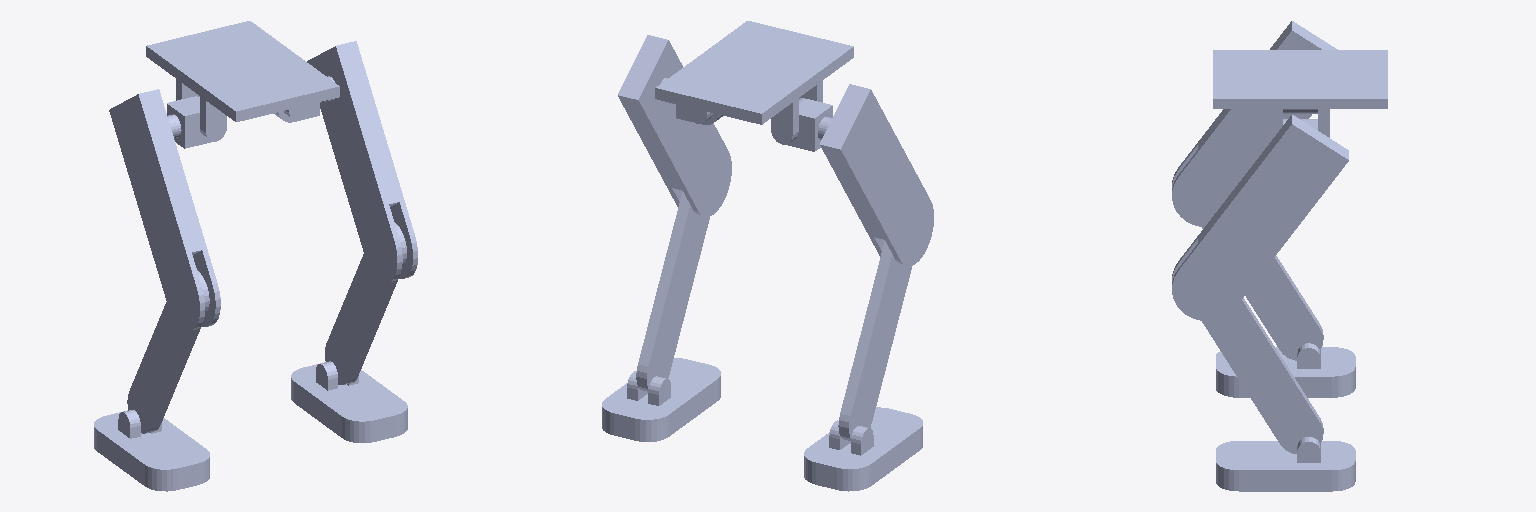
robot.urdf — Severus_1:
<?xml version="1.0" encoding="utf-8"?>
<!-- This URDF was automatically created by SolidWorks to URDF Exporter! Originally created by [author] ([email redacted]) 
     Commit Version: 1.5.1-0-g916b5db  Build Version: 1.5.7152.31018
     For more information, please see http://wiki.ros.org/sw_urdf_exporter -->
<robot
  name="Severus_1">
  <link
    name="base_link">
    <inertial>
      <origin
        xyz="-1.6476E-17 0.16214 1.7188E-15"
        rpy="0 0 0" />
      <mass
        value="0.024892" />
      <inertia
        ixx="1.0353E-05"
        ixy="-1.0923E-21"
        ixz="-9.3058E-22"
        iyy="1.5627E-05"
        iyz="3.3417E-22"
        izz="7.5413E-06" />
    </inertial>
    <visual>
      <origin
        xyz="0 0 0"
        rpy="0 0 0" />
      <geometry>
        <mesh
          filename="package://Severus_1/meshes/base_link.STL" />
      </geometry>
      <material
        name="">
        <color
          rgba="0.79216 0.81961 0.93333 1" />
      </material>
    </visual>
    <collision>
      <origin
        xyz="0 0 0"
        rpy="0 0 0" />
      <geometry>
        <mesh
          filename="package://Severus_1/meshes/base_link.STL" />
      </geometry>
    </collision>
  </link>
  <link
    name="Link_11">
    <inertial>
      <origin
        xyz="-0.005742 0 -1.7225E-15"
        rpy="0 0 0" />
      <mass
        value="0.0033525" />
      <inertia
        ixx="1.2441E-07"
        ixy="-9.5724E-24"
        ixz="-2.4511E-24"
        iyy="1.9435E-07"
        iyz="2.6296E-25"
        izz="2.0287E-07" />
    </inertial>
    <visual>
      <origin
        xyz="0 0 0"
        rpy="0 0 0" />
      <geometry>
        <mesh
          filename="package://Severus_1/meshes/Link_11.STL" />
      </geometry>
      <material
        name="">
        <color
          rgba="0.79216 0.81961 0.93333 1" />
      </material>
    </visual>
    <collision>
      <origin
        xyz="0 0 0"
        rpy="0 0 0" />
      <geometry>
        <mesh
          filename="package://Severus_1/meshes/Link_11.STL" />
      </geometry>
    </collision>
  </link>
  <joint
    name="Joint_11"
    type="continuous">
    <origin
      xyz="-0.02 0 0.14812"
      rpy="-1.5708 0 0" />
    <parent
      link="base_link" />
    <child
      link="Link_11" />
    <axis
      xyz="0 0 1" />
  </joint>
  <link
    name="Link_12">
    <inertial>
      <origin
        xyz="-0.0098841 -0.027374 5.9674E-16"
        rpy="0 0 0" />
      <mass
        value="0.02541" />
      <inertia
        ixx="1.8947E-05"
        ixy="-8.0624E-08"
        ixz="-1.522E-22"
        iyy="2.1018E-06"
        iyz="-9.2115E-21"
        izz="1.7357E-05" />
    </inertial>
    <visual>
      <origin
        xyz="0 0 0"
        rpy="0 0 0" />
      <geometry>
        <mesh
          filename="package://Severus_1/meshes/Link_12.STL" />
      </geometry>
      <material
        name="">
        <color
          rgba="0.79216 0.81961 0.93333 1" />
      </material>
    </visual>
    <collision>
      <origin
        xyz="0 0 0"
        rpy="0 0 0" />
      <geometry>
        <mesh
          filename="package://Severus_1/meshes/Link_12.STL" />
      </geometry>
    </collision>
  </link>
  <joint
    name="Joint_12"
    type="continuous">
    <origin
      xyz="-0.0175 0 0"
      rpy="2.5307 0 0" />
    <parent
      link="Link_11" />
    <child
      link="Link_12" />
    <axis
      xyz="1 0 0" />
  </joint>
  <link
    name="Link_13">
    <inertial>
      <origin
        xyz="-0.005 -0.040482 3.4694E-18"
        rpy="0 0 0" />
      <mass
        value="0.009669" />
      <inertia
        ixx="7.878E-06"
        ixy="1.6532E-21"
        ixz="-3.4437E-23"
        iyy="3.2746E-07"
        iyz="8.9997E-22"
        izz="7.5933E-06" />
    </inertial>
    <visual>
      <origin
        xyz="0 0 0"
        rpy="0 0 0" />
      <geometry>
        <mesh
          filename="package://Severus_1/meshes/Link_13.STL" />
      </geometry>
      <material
        name="">
        <color
          rgba="0.79216 0.81961 0.93333 1" />
      </material>
    </visual>
    <collision>
      <origin
        xyz="0 0 0"
        rpy="0 0 0" />
      <geometry>
        <mesh
          filename="package://Severus_1/meshes/Link_13.STL" />
      </geometry>
    </collision>
  </link>
  <joint
    name="Joint_13"
    type="continuous">
    <origin
      xyz="-0.005 -0.07 0"
      rpy="1.1345 0 0" />
    <parent
      link="Link_12" />
    <child
      link="Link_13" />
    <axis
      xyz="1 0 0" />
  </joint>
  <link
    name="Link_14">
    <inertial>
      <origin
        xyz="-0.00500000000000002 -0.00952810322272496 0.00950499909017666"
        rpy="0 0 0" />
      <mass
        value="0.0180342917352885" />
      <inertia
        ixx="5.05303717496673E-06"
        ixy="-2.10409767457236E-23"
        ixz="2.69571912809291E-22"
        iyy="6.05790585277192E-06"
        iyz="8.08906233059054E-08"
        izz="1.4576451211458E-06" />
    </inertial>
    <visual>
      <origin
        xyz="0 0 0"
        rpy="0 0 0" />
      <geometry>
        <mesh
          filename="package://Severus_1/meshes/Link_14.STL" />
      </geometry>
      <material
        name="">
        <color
          rgba="0.792156862745098 0.819607843137255 0.933333333333333 1" />
      </material>
    </visual>
    <collision>
      <origin
        xyz="0 0 0"
        rpy="0 0 0" />
      <geometry>
        <mesh
          filename="package://Severus_1/meshes/Link_14.STL" />
      </geometry>
    </collision>
  </link>
  <joint
    name="Joint_14"
    type="continuous">
    <origin
      xyz="0 -0.0875 0"
      rpy="-0.5236 0 0" />
    <parent
      link="Link_13" />
    <child
      link="Link_14" />
    <axis
      xyz="1 0 0" />
  </joint>
  <link
    name="Link_21">
    <inertial>
      <origin
        xyz="-0.00574200859091186 0 -1.69896116114315E-15"
        rpy="0 0 0" />
      <mass
        value="0.00335246123733575" />
      <inertia
        ixx="1.24413412730388E-07"
        ixy="-3.06887560375041E-25"
        ixz="1.80209057521074E-24"
        iyy="1.94351591408284E-07"
        iyz="1.04258005381487E-24"
        izz="2.02865184781049E-07" />
    </inertial>
    <visual>
      <origin
        xyz="0 0 0"
        rpy="0 0 0" />
      <geometry>
        <mesh
          filename="package://Severus_1/meshes/Link_21.STL" />
      </geometry>
      <material
        name="">
        <color
          rgba="0.792156862745098 0.819607843137255 0.933333333333333 1" />
      </material>
    </visual>
    <collision>
      <origin
        xyz="0 0 0"
        rpy="0 0 0" />
      <geometry>
        <mesh
          filename="package://Severus_1/meshes/Link_21.STL" />
      </geometry>
    </collision>
  </link>
  <joint
    name="Joint_21"
    type="continuous">
    <origin
      xyz="0.02 0 0.14812"
      rpy="1.5708 0 3.1416" />
    <parent
      link="base_link" />
    <child
      link="Link_21" />
    <axis
      xyz="0 0 1" />
  </joint>
  <link
    name="Link_22">
    <inertial>
      <origin
        xyz="-0.00988409047286153 -0.0273742406583679 -1.69309011255336E-15"
        rpy="0 0 0" />
      <mass
        value="0.025409844949343" />
      <inertia
        ixx="1.89468841854314E-05"
        ixy="-8.06237937655535E-08"
        ixz="-1.58818677610181E-22"
        iyy="2.10175576624801E-06"
        iyz="-1.01643953670516E-20"
        izz="1.73574273030482E-05" />
    </inertial>
    <visual>
      <origin
        xyz="0 0 0"
        rpy="0 0 0" />
      <geometry>
        <mesh
          filename="package://Severus_1/meshes/Link_22.STL" />
      </geometry>
      <material
        name="">
        <color
          rgba="0.792156862745098 0.819607843137255 0.933333333333333 1" />
      </material>
    </visual>
    <collision>
      <origin
        xyz="0 0 0"
        rpy="0 0 0" />
      <geometry>
        <mesh
          filename="package://Severus_1/meshes/Link_22.STL" />
      </geometry>
    </collision>
  </link>
  <joint
    name="Joint_22"
    type="continuous">
    <origin
      xyz="-0.0175 0 0"
      rpy="0.61087 0 0" />
    <parent
      link="Link_21" />
    <child
      link="Link_22" />
    <axis
      xyz="1 0 0" />
  </joint>
  <link
    name="Link_23">
    <inertial>
      <origin
        xyz="-0.005 -0.0404822955357177 1.38777878078145E-17"
        rpy="0 0 0" />
      <mass
        value="0.00966897109721958" />
      <inertia
        ixx="7.87804513826546E-06"
        ixy="-1.95728282103972E-23"
        ixz="-1.13844502096177E-23"
        iyy="3.2746084733151E-07"
        iyz="2.35581038455102E-21"
        izz="7.59332603976631E-06" />
    </inertial>
    <visual>
      <origin
        xyz="0 0 0"
        rpy="0 0 0" />
      <geometry>
        <mesh
          filename="package://Severus_1/meshes/Link_23.STL" />
      </geometry>
      <material
        name="">
        <color
          rgba="0.792156862745098 0.819607843137255 0.933333333333333 1" />
      </material>
    </visual>
    <collision>
      <origin
        xyz="0 0 0"
        rpy="0 0 0" />
      <geometry>
        <mesh
          filename="package://Severus_1/meshes/Link_23.STL" />
      </geometry>
    </collision>
  </link>
  <joint
    name="Joint_23"
    type="continuous">
    <origin
      xyz="-0.005 -0.07 0"
      rpy="-1.1345 0 0" />
    <parent
      link="Link_22" />
    <child
      link="Link_23" />
    <axis
      xyz="1 0 0" />
  </joint>
  <link
    name="Link_24">
    <inertial>
      <origin
        xyz="0.00500000000000001 -0.00952810322272496 0.00950499909017666"
        rpy="0 0 0" />
      <mass
        value="0.0180342917352885" />
      <inertia
        ixx="5.05303717496672E-06"
        ixy="-7.47898906715118E-23"
        ixz="-7.8228964090395E-23"
        iyy="6.05790585277192E-06"
        iyz="8.08906233059055E-08"
        izz="1.4576451211458E-06" />
    </inertial>
    <visual>
      <origin
        xyz="0 0 0"
        rpy="0 0 0" />
      <geometry>
        <mesh
          filename="package://Severus_1/meshes/Link_24.STL" />
      </geometry>
      <material
        name="">
        <color
          rgba="0.792156862745098 0.819607843137255 0.933333333333333 1" />
      </material>
    </visual>
    <collision>
      <origin
        xyz="0 0 0"
        rpy="0 0 0" />
      <geometry>
        <mesh
          filename="package://Severus_1/meshes/Link_24.STL" />
      </geometry>
    </collision>
  </link>
  <joint
    name="Joint_24"
    type="continuous">
    <origin
      xyz="0 -0.0875 0"
      rpy="2.618 0 3.1416" />
    <parent
      link="Link_23" />
    <child
      link="Link_24" />
    <axis
      xyz="1 0 0" />
  </joint>
</robot>

--- Render facts (derived) ---
The picture shows the robot from 3 angles, left to right: view 1: azimuth 30°, elevation 25°; view 2: azimuth 150°, elevation 25°; view 3: azimuth 270°, elevation 25°; orthographic projection.
Model Severus_1 with 9 links and 8 joints (8 continuous), rooted at base_link, posed every joint at zero.
Links seen in each view (by area): view 1: base_link, Link_12, Link_22, Link_24, Link_14, Link_13, Link_23, Link_11; view 2: base_link, Link_12, Link_22, Link_24, Link_14, Link_13, Link_23, Link_11; view 3: Link_22, base_link, Link_12, Link_23, Link_24, Link_13, Link_14.
Link boxes in pixels (x1=…): base_link: x1=146, y1=21, x2=339, y2=141; Link_12: x1=109, y1=89, x2=220, y2=330; Link_22: x1=307, y1=41, x2=417, y2=282; Link_24: x1=291, y1=361, x2=407, y2=442; Link_14: x1=94, y1=410, x2=209, y2=491; Link_13: x1=127, y1=270, x2=209, y2=433; Link_23: x1=325, y1=223, x2=406, y2=384; Link_11: x1=167, y1=96, x2=211, y2=148; base_link: x1=655, y1=21, x2=853, y2=144; Link_12: x1=820, y1=84, x2=933, y2=265; Link_22: x1=618, y1=35, x2=731, y2=216; Link_24: x1=602, y1=358, x2=720, y2=441; Link_14: x1=804, y1=407, x2=922, y2=491; Link_13: x1=838, y1=241, x2=911, y2=441; Link_23: x1=636, y1=192, x2=709, y2=392; Link_11: x1=786, y1=98, x2=832, y2=151; Link_22: x1=1172, y1=115, x2=1348, y2=320; base_link: x1=1213, y1=50, x2=1387, y2=140; Link_12: x1=1172, y1=21, x2=1337, y2=226; Link_23: x1=1202, y1=297, x2=1323, y2=453; Link_24: x1=1216, y1=437, x2=1355, y2=491; Link_13: x1=1202, y1=227, x2=1323, y2=360; Link_14: x1=1216, y1=343, x2=1355, y2=397.
Size in the robot's own frame: 0.125 by 0.0926 by 0.169 metres.
9 mesh visuals loaded from 9 distinct referenced files (9 binary STL).
